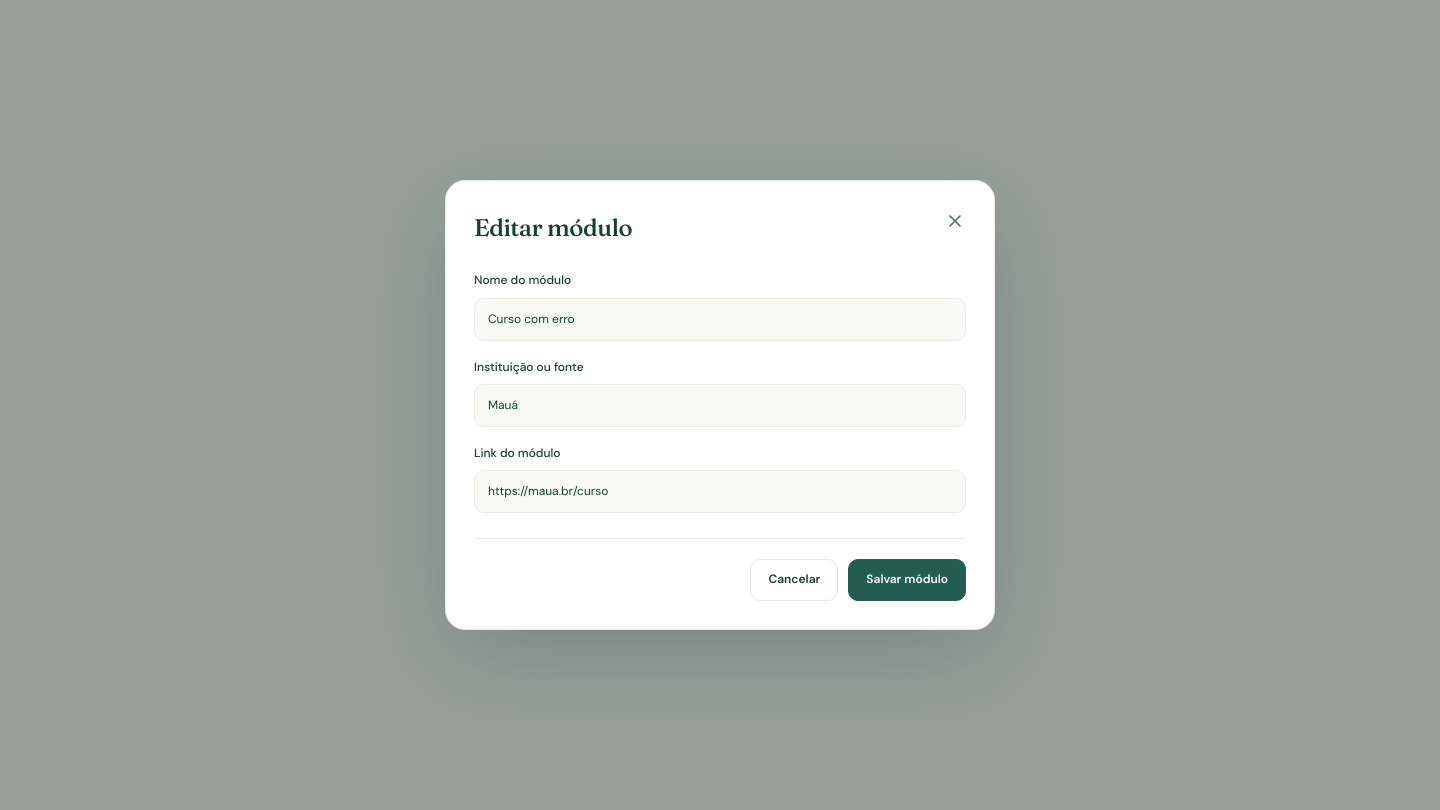
Test: editing catalog entries through real domain commands › keeps an unsuccessful edit open without announcing success or dropping original data
Replace the text in the field labelled "Nome do módulo" with "Título tentado" at coordinates (720, 319), box left=474, top=298, right=966, bottom=340
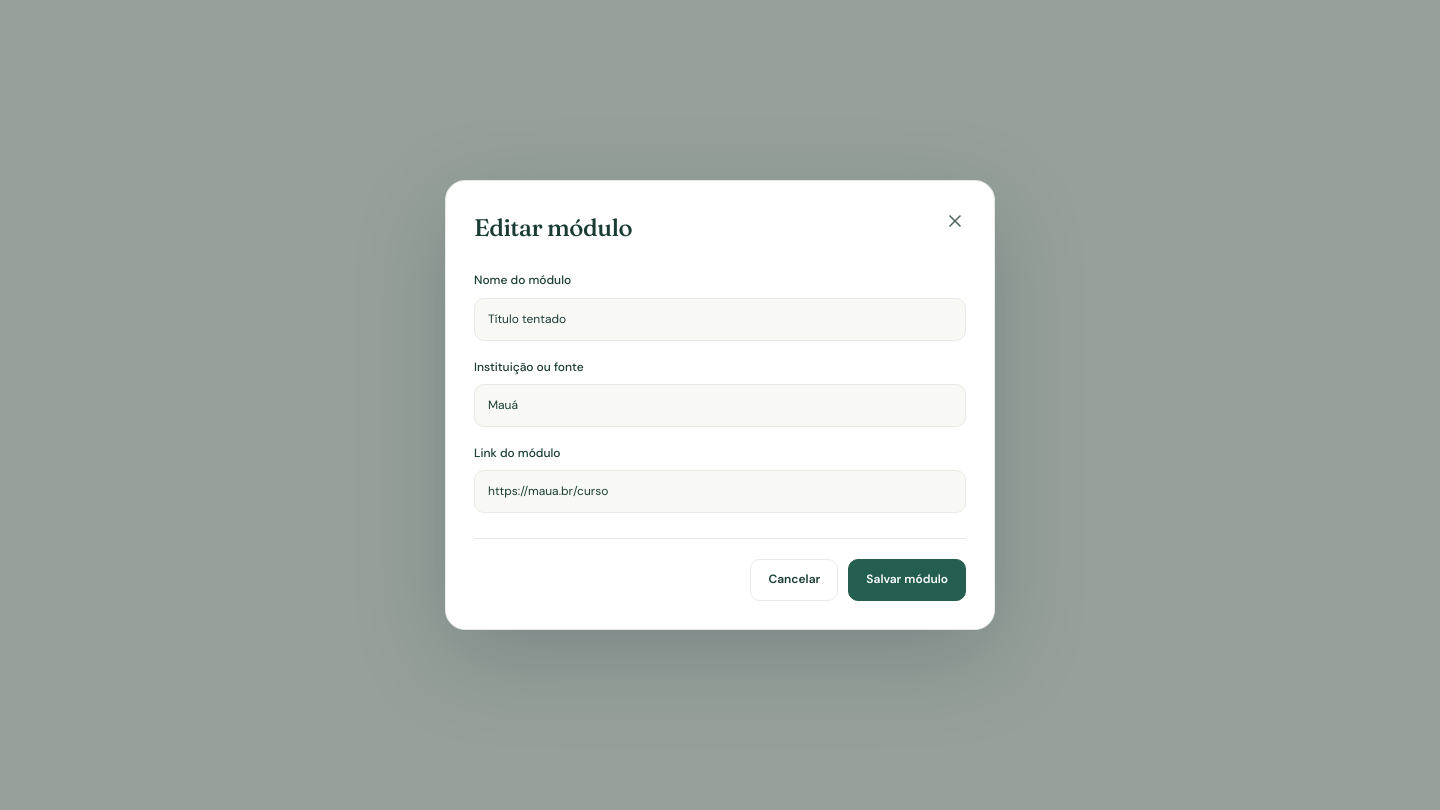
Click the button "Salvar módulo" at coordinates (907, 580), box left=848, top=559, right=966, bottom=601
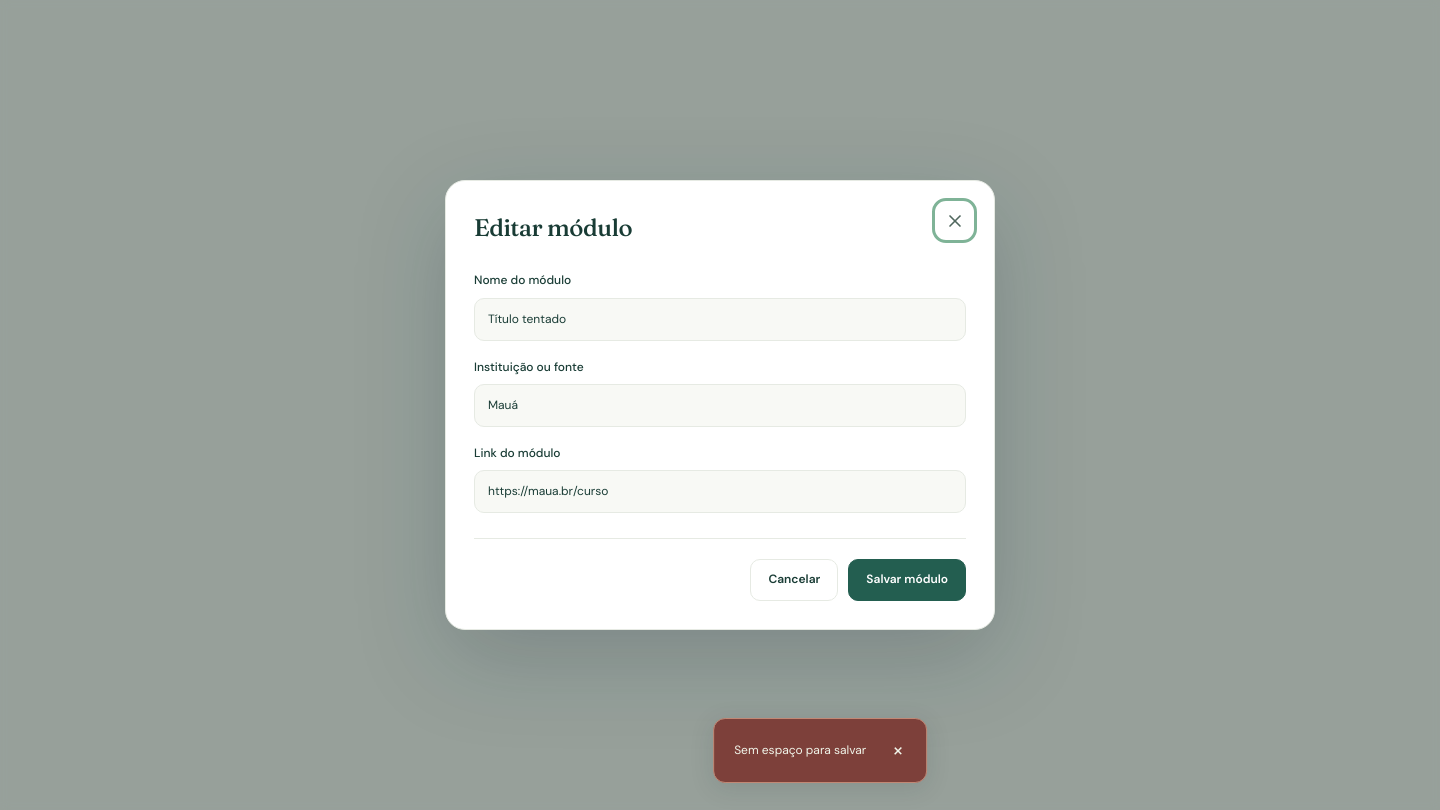
Expected: the message shows "Sem espaço para salvar", left=734, top=742, right=866, bottom=758
